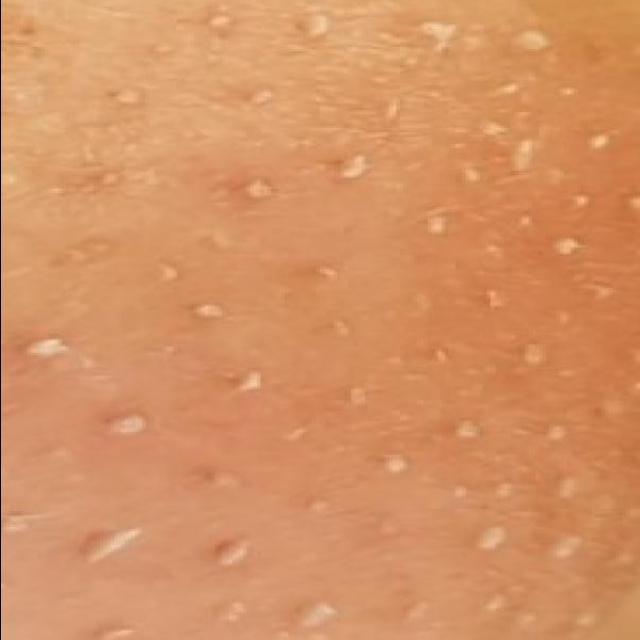whitehead: (3, 0, 640, 640)
